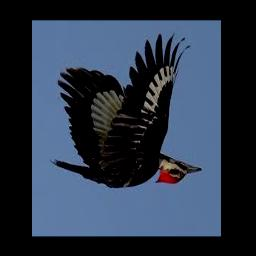Woodpecker: (49, 35, 201, 189)
